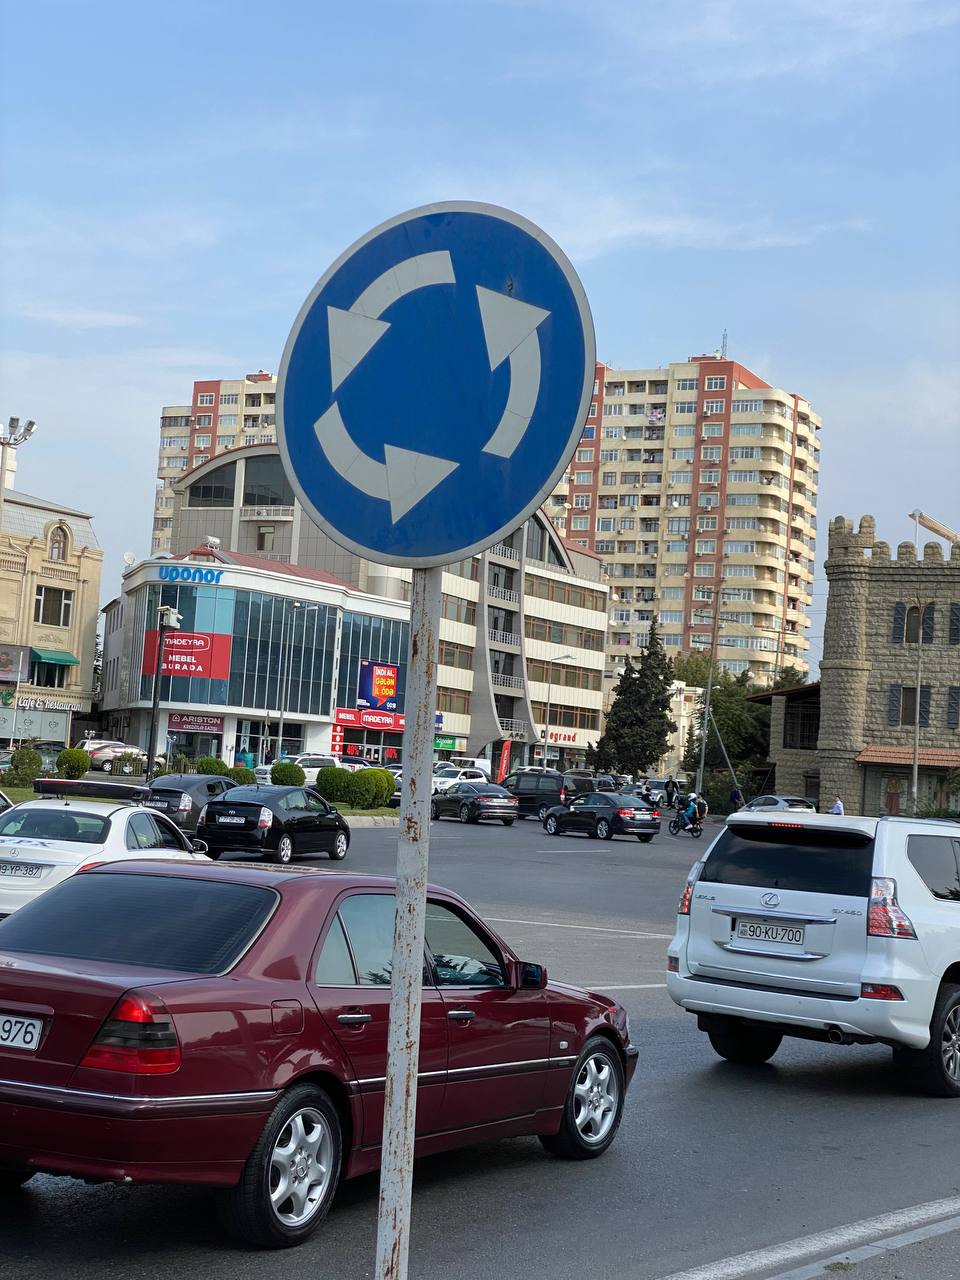Round-About: (276, 200, 595, 569)
